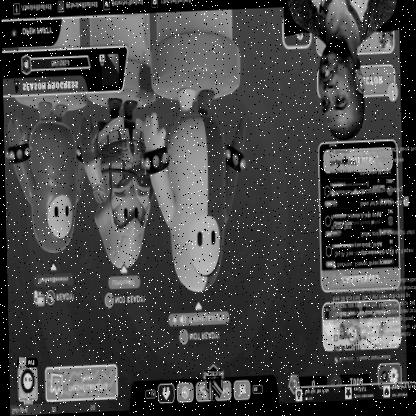streamer: (284, 0, 401, 145)
